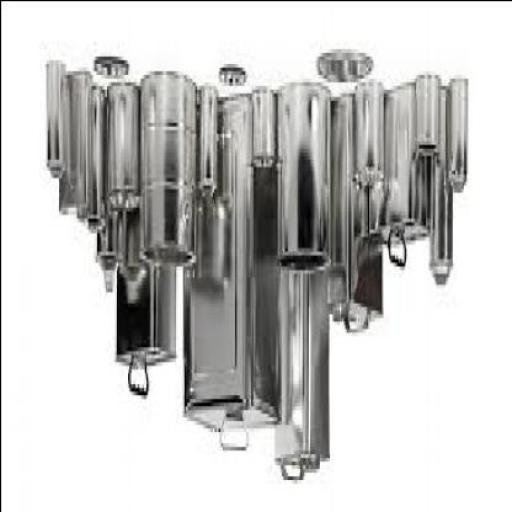metal: (184, 96, 282, 438), (274, 254, 328, 483), (115, 173, 177, 372), (332, 96, 383, 327), (141, 77, 197, 269), (369, 88, 431, 250), (280, 84, 332, 276), (97, 92, 126, 294), (430, 88, 455, 287), (59, 73, 92, 214), (78, 77, 107, 232), (110, 84, 142, 210), (354, 92, 382, 191), (123, 195, 145, 306), (252, 92, 277, 173), (48, 63, 65, 181), (201, 88, 217, 195), (418, 81, 440, 155), (456, 84, 468, 192), (320, 56, 374, 78), (94, 59, 129, 81), (220, 66, 245, 88)
